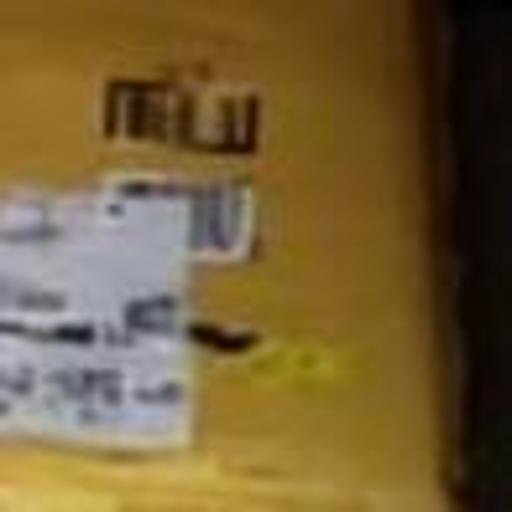Other: (0, 0, 467, 506)
